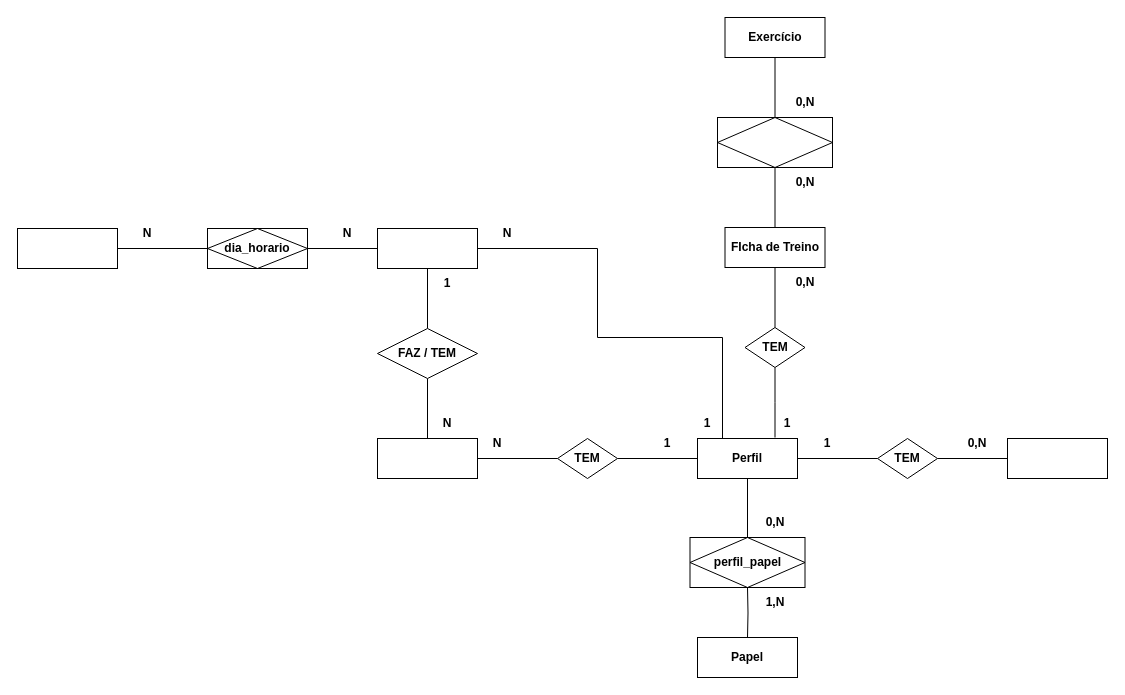
Some shapes in this 1125 by 695 pixel diagram are drawn without their labels. Here are the shapes that lost their labels. From the top down, the centre of each, then its label:
the point at 774,142: ficha_exercicios
the point at 67,248: Dia
the point at 427,248: Horário de Treino
the point at 427,458: Agendamento
the point at 1057,458: Relatório de Treino
